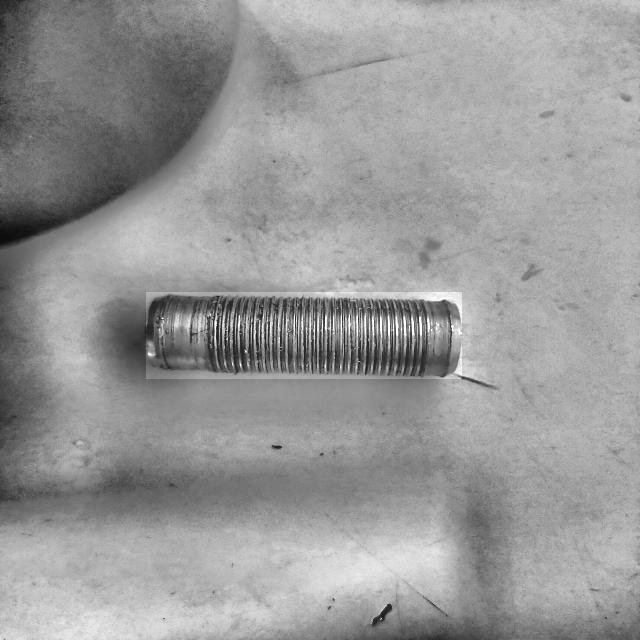Broken: (146, 292, 462, 379)
